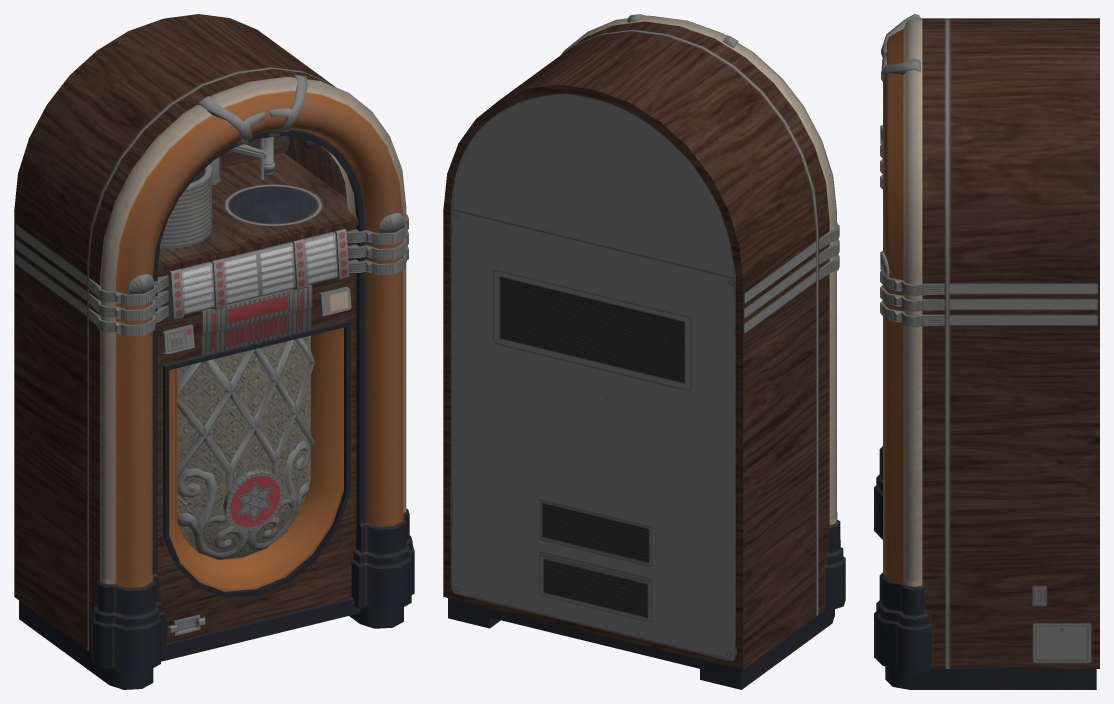
The model's file is jukebox.glb.
3 views of the same model, side by side, from view 1: azimuth 30°, elevation 25°; view 2: azimuth 150°, elevation 25°; view 3: azimuth 270°, elevation 25° (orthographic). The views are drawn at different scales.
Parts seen in each view (by area): view 1: Jukebox_UV_Jukebox_0; view 2: Jukebox_UV_Jukebox_0; view 3: Jukebox_UV_Jukebox_0.
Part boxes in pixels (bbox=[...]): Jukebox_UV_Jukebox_0: bbox=[14, 14, 414, 689]; Jukebox_UV_Jukebox_0: bbox=[443, 14, 845, 689]; Jukebox_UV_Jukebox_0: bbox=[874, 14, 1099, 689].
Bounding box in the file's own units: 91.94 × 156 × 54.72.
Materials: 2 (2 with a texture image).
